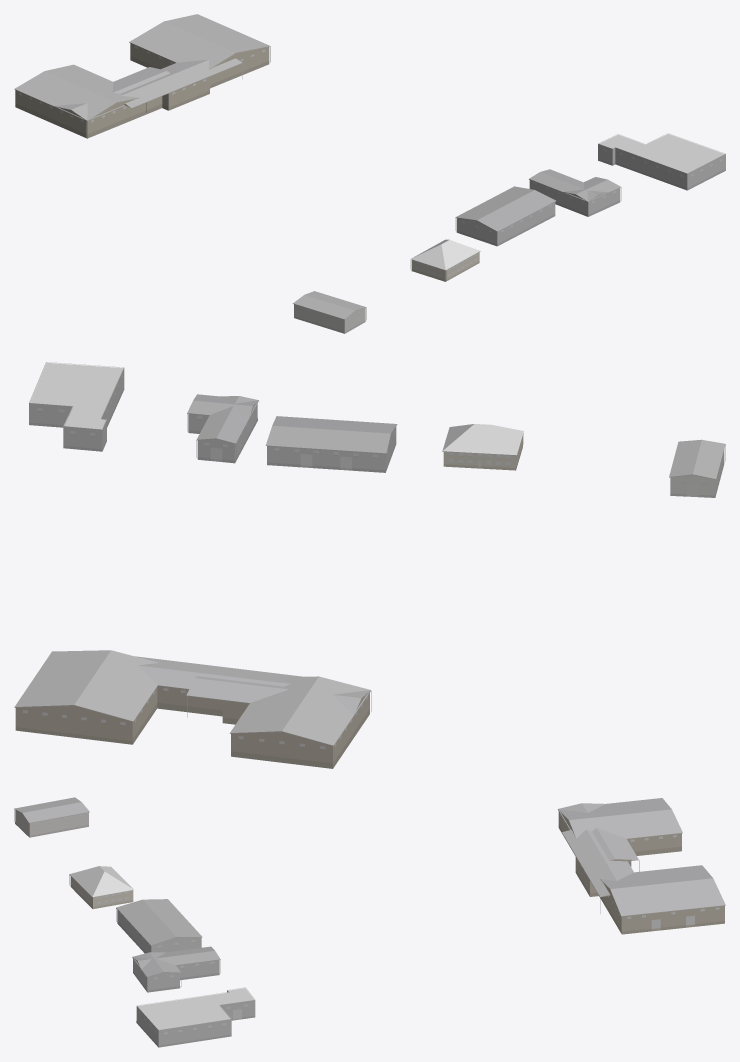
The picture shows the model from 3 angles, top to bottom: view 1: azimuth 30°, elevation 25°; view 2: azimuth 150°, elevation 25°; view 3: azimuth 270°, elevation 25°; orthographic projection. The views are drawn at different scales.
Visible parts, largest first — view 1: bld; view 2: bld; view 3: bld.
Part boxes in pixels (left/top/right/bottom): bld: left=14, top=14, right=725, bottom=333; bld: left=14, top=362, right=725, bottom=768; bld: left=14, top=797, right=725, bottom=1047.
Bounding box in the file's own units: 240 × 12.82 × 304.
